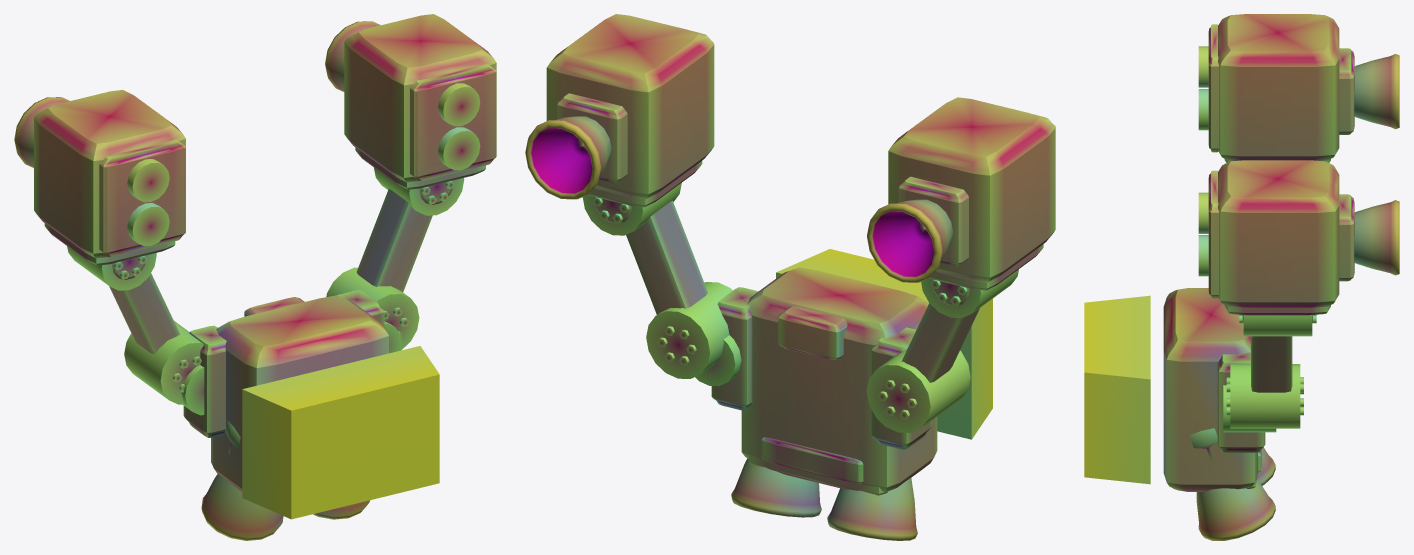
The model's file is llm_gen_dorsal_pack_031_b88430.glb.
3 views of the same model, side by side, from view 1: azimuth 30°, elevation 25°; view 2: azimuth 150°, elevation 25°; view 3: azimuth 270°, elevation 25° (orthographic). The views are drawn at different scales.
Visible parts, largest first — view 1: mounting_dovetail_plug, salvo_pod_box_6_fuselage_r, salvo_pod_box_6_fuselage_l, adapter_dorsal_spine_dark, salvo_face_frame_7_gold_r, salvo_face_frame_7_gold_l, salvo_mount_pylon_2_adapter_dark_r, adapter_sub_pylon_drum_dark_0_adapter_dark_l, lower_boost_bell_12_vernier_bell_vernier_l, salvo_mount_pylon_2_adapter_dark_l, adapter_dorsal_outrigger_dark_l, adapter_sub_pylon_drum_dark_0_adapter_dark_r (+12 smaller); view 2: adapter_dorsal_spine_dark, salvo_pod_box_6_fuselage_r, salvo_pod_box_6_fuselage_l, mounting_dovetail_plug, exhaust_vernier_11_vernier_bell_vernier_r, exhaust_vernier_11_vernier_bell_vernier_l, salvo_mount_pylon_2_adapter_dark_r, adapter_sub_pylon_drum_dark_0_adapter_dark_l, adapter_sub_pylon_drum_dark_0_adapter_dark_r, lower_boost_bell_12_vernier_bell_vernier_l, lower_boost_bell_12_vernier_bell_vernier_r, salvo_mount_pylon_2_adapter_dark_l (+12 smaller); view 3: salvo_pod_box_6_fuselage_r, salvo_pod_box_6_fuselage_l, adapter_dorsal_spine_dark, mounting_dovetail_plug, lower_boost_bell_12_vernier_bell_vernier_r, adapter_sub_pylon_drum_dark_0_adapter_dark_r, exhaust_vernier_11_vernier_bell_vernier_r, exhaust_vernier_11_vernier_bell_vernier_l, salvo_mount_pylon_2_adapter_dark_r, adapter_dorsal_outrigger_dark_r, adapter_sub_upper_drum_dark_3_adapter_dark_r, adapter_sub_pod_exhaust_dark_10_adapter_dark_r (+11 smaller).
Part boxes in pixels (x1=…): mounting_dovetail_plug: x1=242, y1=346, x2=439, y2=519; salvo_pod_box_6_fuselage_r: x1=344, y1=14, x2=496, y2=182; salvo_pod_box_6_fuselage_l: x1=34, y1=90, x2=185, y2=258; adapter_dorsal_spine_dark: x1=211, y1=295, x2=388, y2=491; salvo_face_frame_7_gold_r: x1=410, y1=64, x2=496, y2=180; salvo_face_frame_7_gold_l: x1=99, y1=139, x2=185, y2=256; salvo_mount_pylon_2_adapter_dark_r: x1=356, y1=188, x2=432, y2=292; adapter_sub_pylon_drum_dark_0_adapter_dark_l: x1=124, y1=321, x2=203, y2=404; lower_boost_bell_12_vernier_bell_vernier_l: x1=201, y1=474, x2=283, y2=540; salvo_mount_pylon_2_adapter_dark_l: x1=109, y1=273, x2=180, y2=354; adapter_dorsal_outrigger_dark_l: x1=183, y1=325, x2=226, y2=437; adapter_sub_pylon_drum_dark_0_adapter_dark_r: x1=326, y1=267, x2=419, y2=350; adapter_dorsal_spine_dark: x1=741, y1=267, x2=937, y2=492; salvo_pod_box_6_fuselage_r: x1=546, y1=14, x2=714, y2=199; salvo_pod_box_6_fuselage_l: x1=888, y1=97, x2=1055, y2=282; mounting_dovetail_plug: x1=776, y1=249, x2=992, y2=439; exhaust_vernier_11_vernier_bell_vernier_r: x1=525, y1=116, x2=611, y2=199; exhaust_vernier_11_vernier_bell_vernier_l: x1=867, y1=199, x2=952, y2=282; salvo_mount_pylon_2_adapter_dark_r: x1=626, y1=200, x2=707, y2=314; adapter_sub_pylon_drum_dark_0_adapter_dark_l: x1=866, y1=349, x2=970, y2=432; adapter_sub_pylon_drum_dark_0_adapter_dark_r: x1=646, y1=282, x2=732, y2=378; lower_boost_bell_12_vernier_bell_vernier_l: x1=827, y1=478, x2=917, y2=540; lower_boost_bell_12_vernier_bell_vernier_r: x1=731, y1=458, x2=821, y2=517; salvo_mount_pylon_2_adapter_dark_l: x1=901, y1=303, x2=979, y2=382; salvo_pod_box_6_fuselage_r: x1=1218, y1=160, x2=1339, y2=307; salvo_pod_box_6_fuselage_l: x1=1218, y1=14, x2=1339, y2=160; adapter_dorsal_spine_dark: x1=1163, y1=288, x2=1257, y2=491; mounting_dovetail_plug: x1=1084, y1=295, x2=1150, y2=484; lower_boost_bell_12_vernier_bell_vernier_r: x1=1196, y1=479, x2=1275, y2=540; adapter_sub_pylon_drum_dark_0_adapter_dark_r: x1=1230, y1=364, x2=1300, y2=428; exhaust_vernier_11_vernier_bell_vernier_r: x1=1354, y1=200, x2=1399, y2=275; exhaust_vernier_11_vernier_bell_vernier_l: x1=1354, y1=54, x2=1399, y2=129; salvo_mount_pylon_2_adapter_dark_r: x1=1251, y1=336, x2=1292, y2=392; adapter_dorsal_outrigger_dark_r: x1=1217, y1=352, x2=1265, y2=452; adapter_sub_upper_drum_dark_3_adapter_dark_r: x1=1243, y1=315, x2=1312, y2=336; adapter_sub_pod_exhaust_dark_10_adapter_dark_r: x1=1339, y1=194, x2=1354, y2=281.
Bounding box in the file's own units: 55.15 × 54.22 × 38.13.
